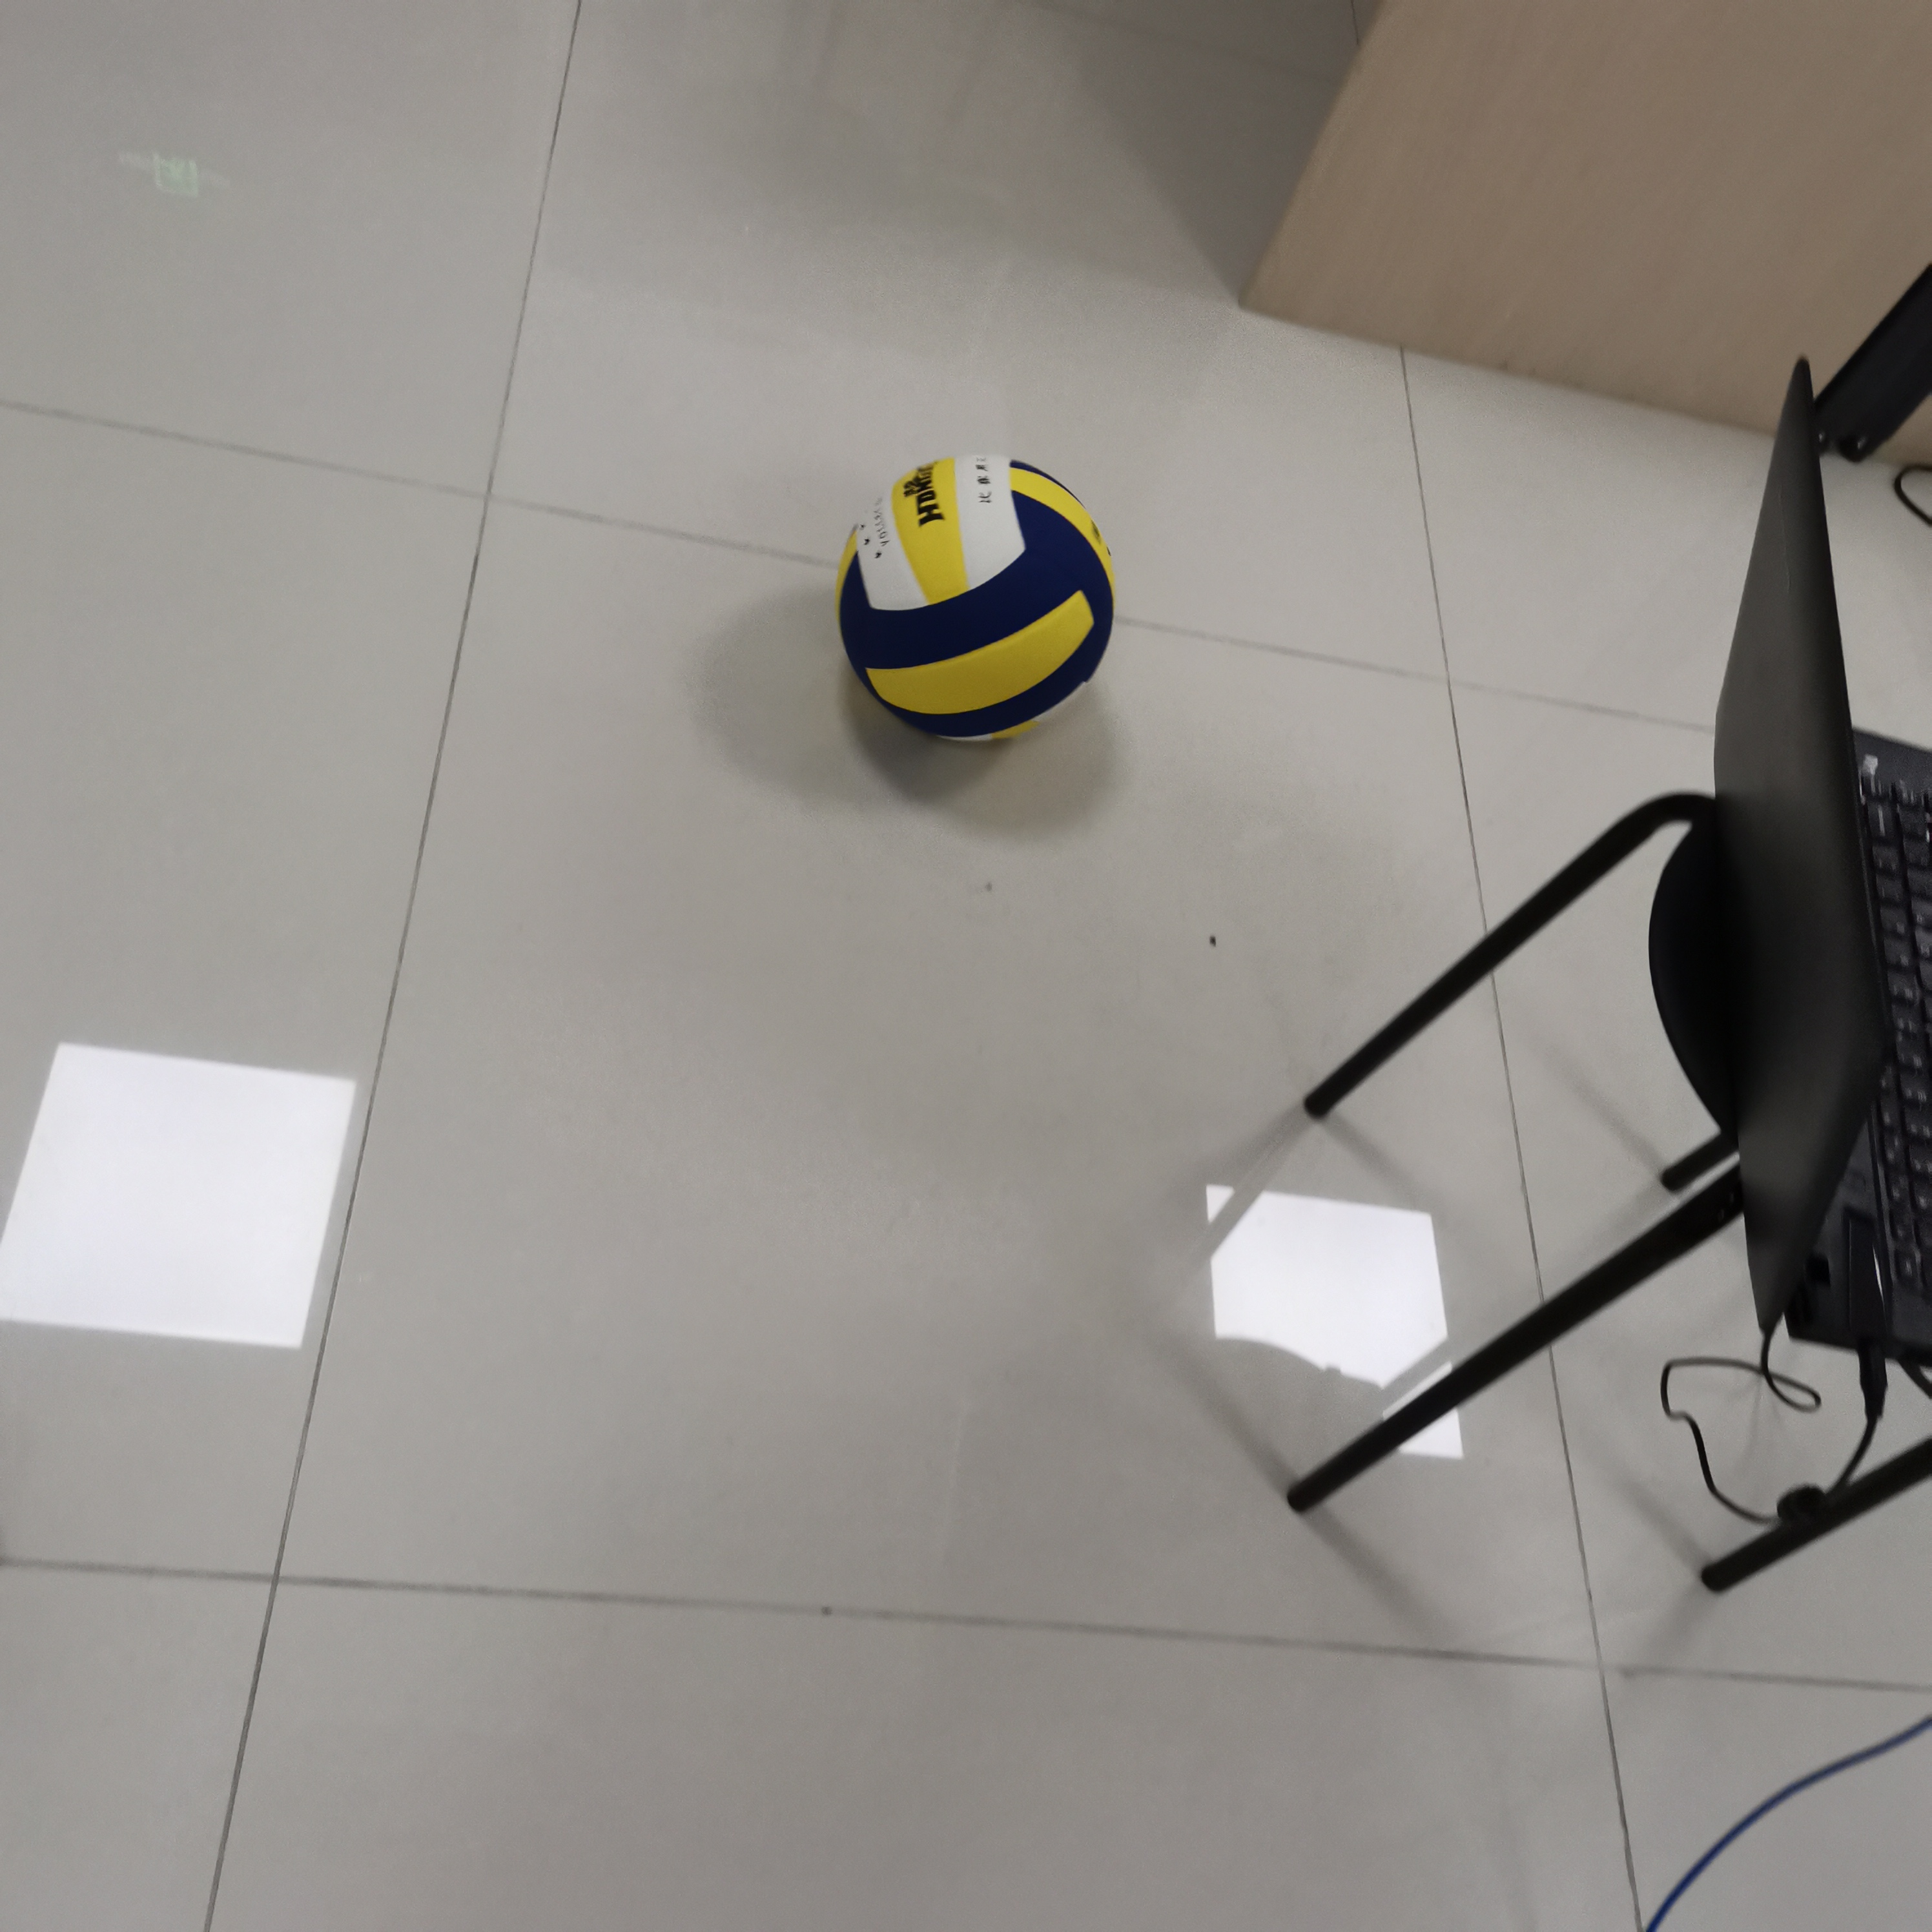volleyball: (835, 446, 1111, 747)
